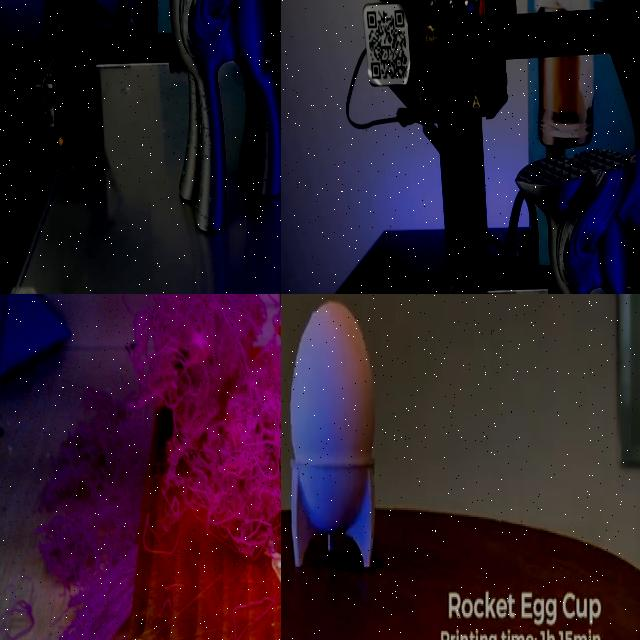spaghetti: (123, 294, 281, 583), (31, 391, 145, 640)
